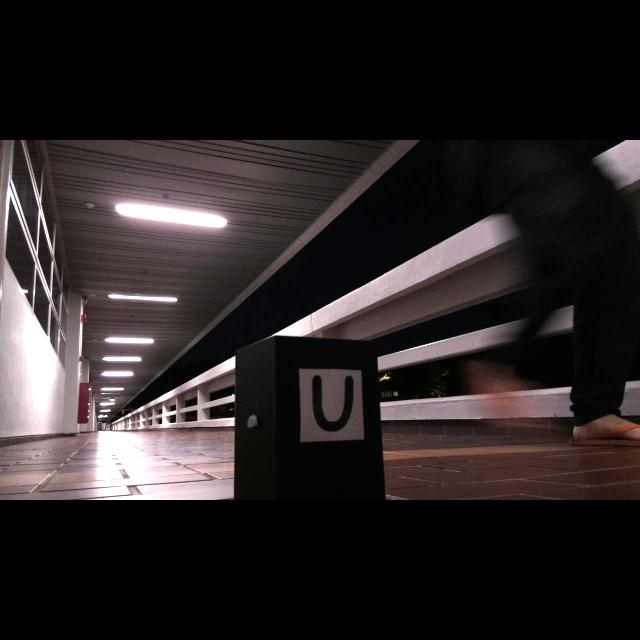U: (311, 375, 354, 433)
